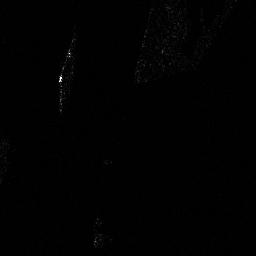ship: (57, 45, 71, 84)
